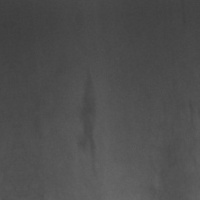inclusion: (66, 68, 111, 179)
